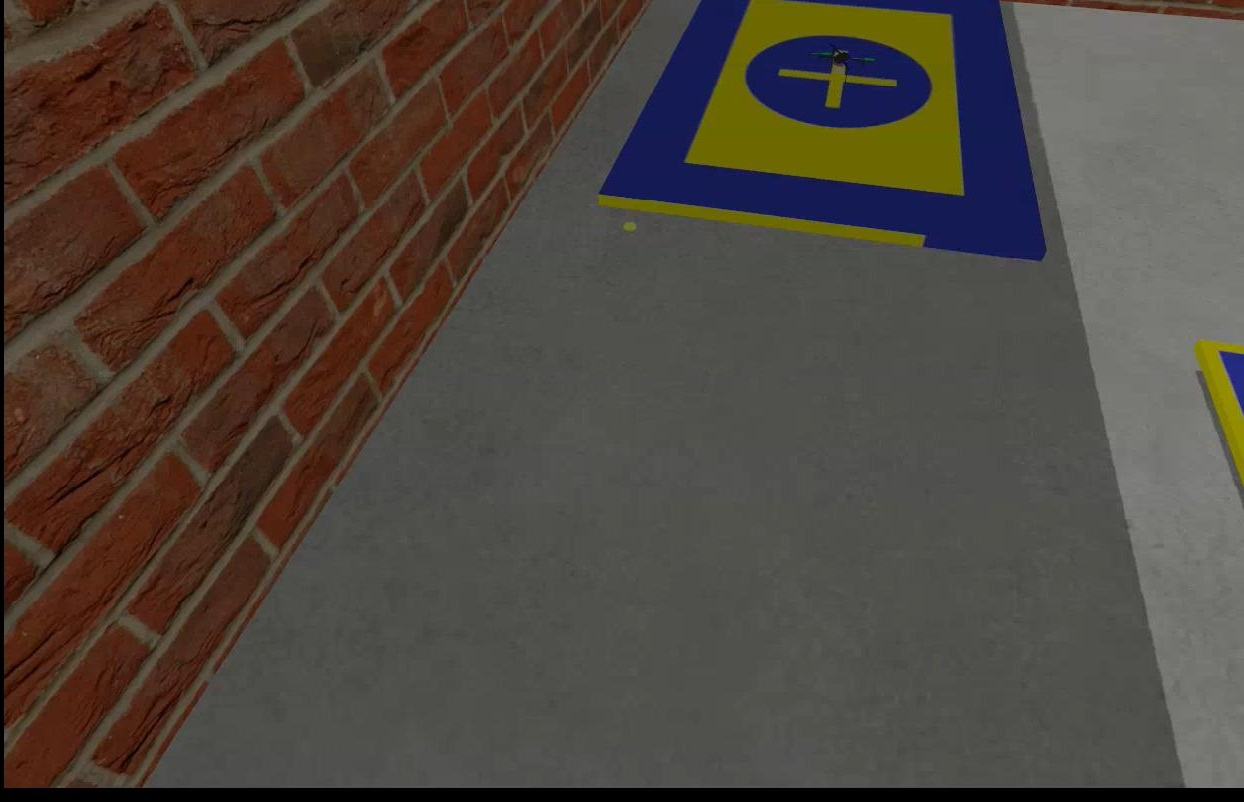large_base: (590, 1, 1043, 263)
